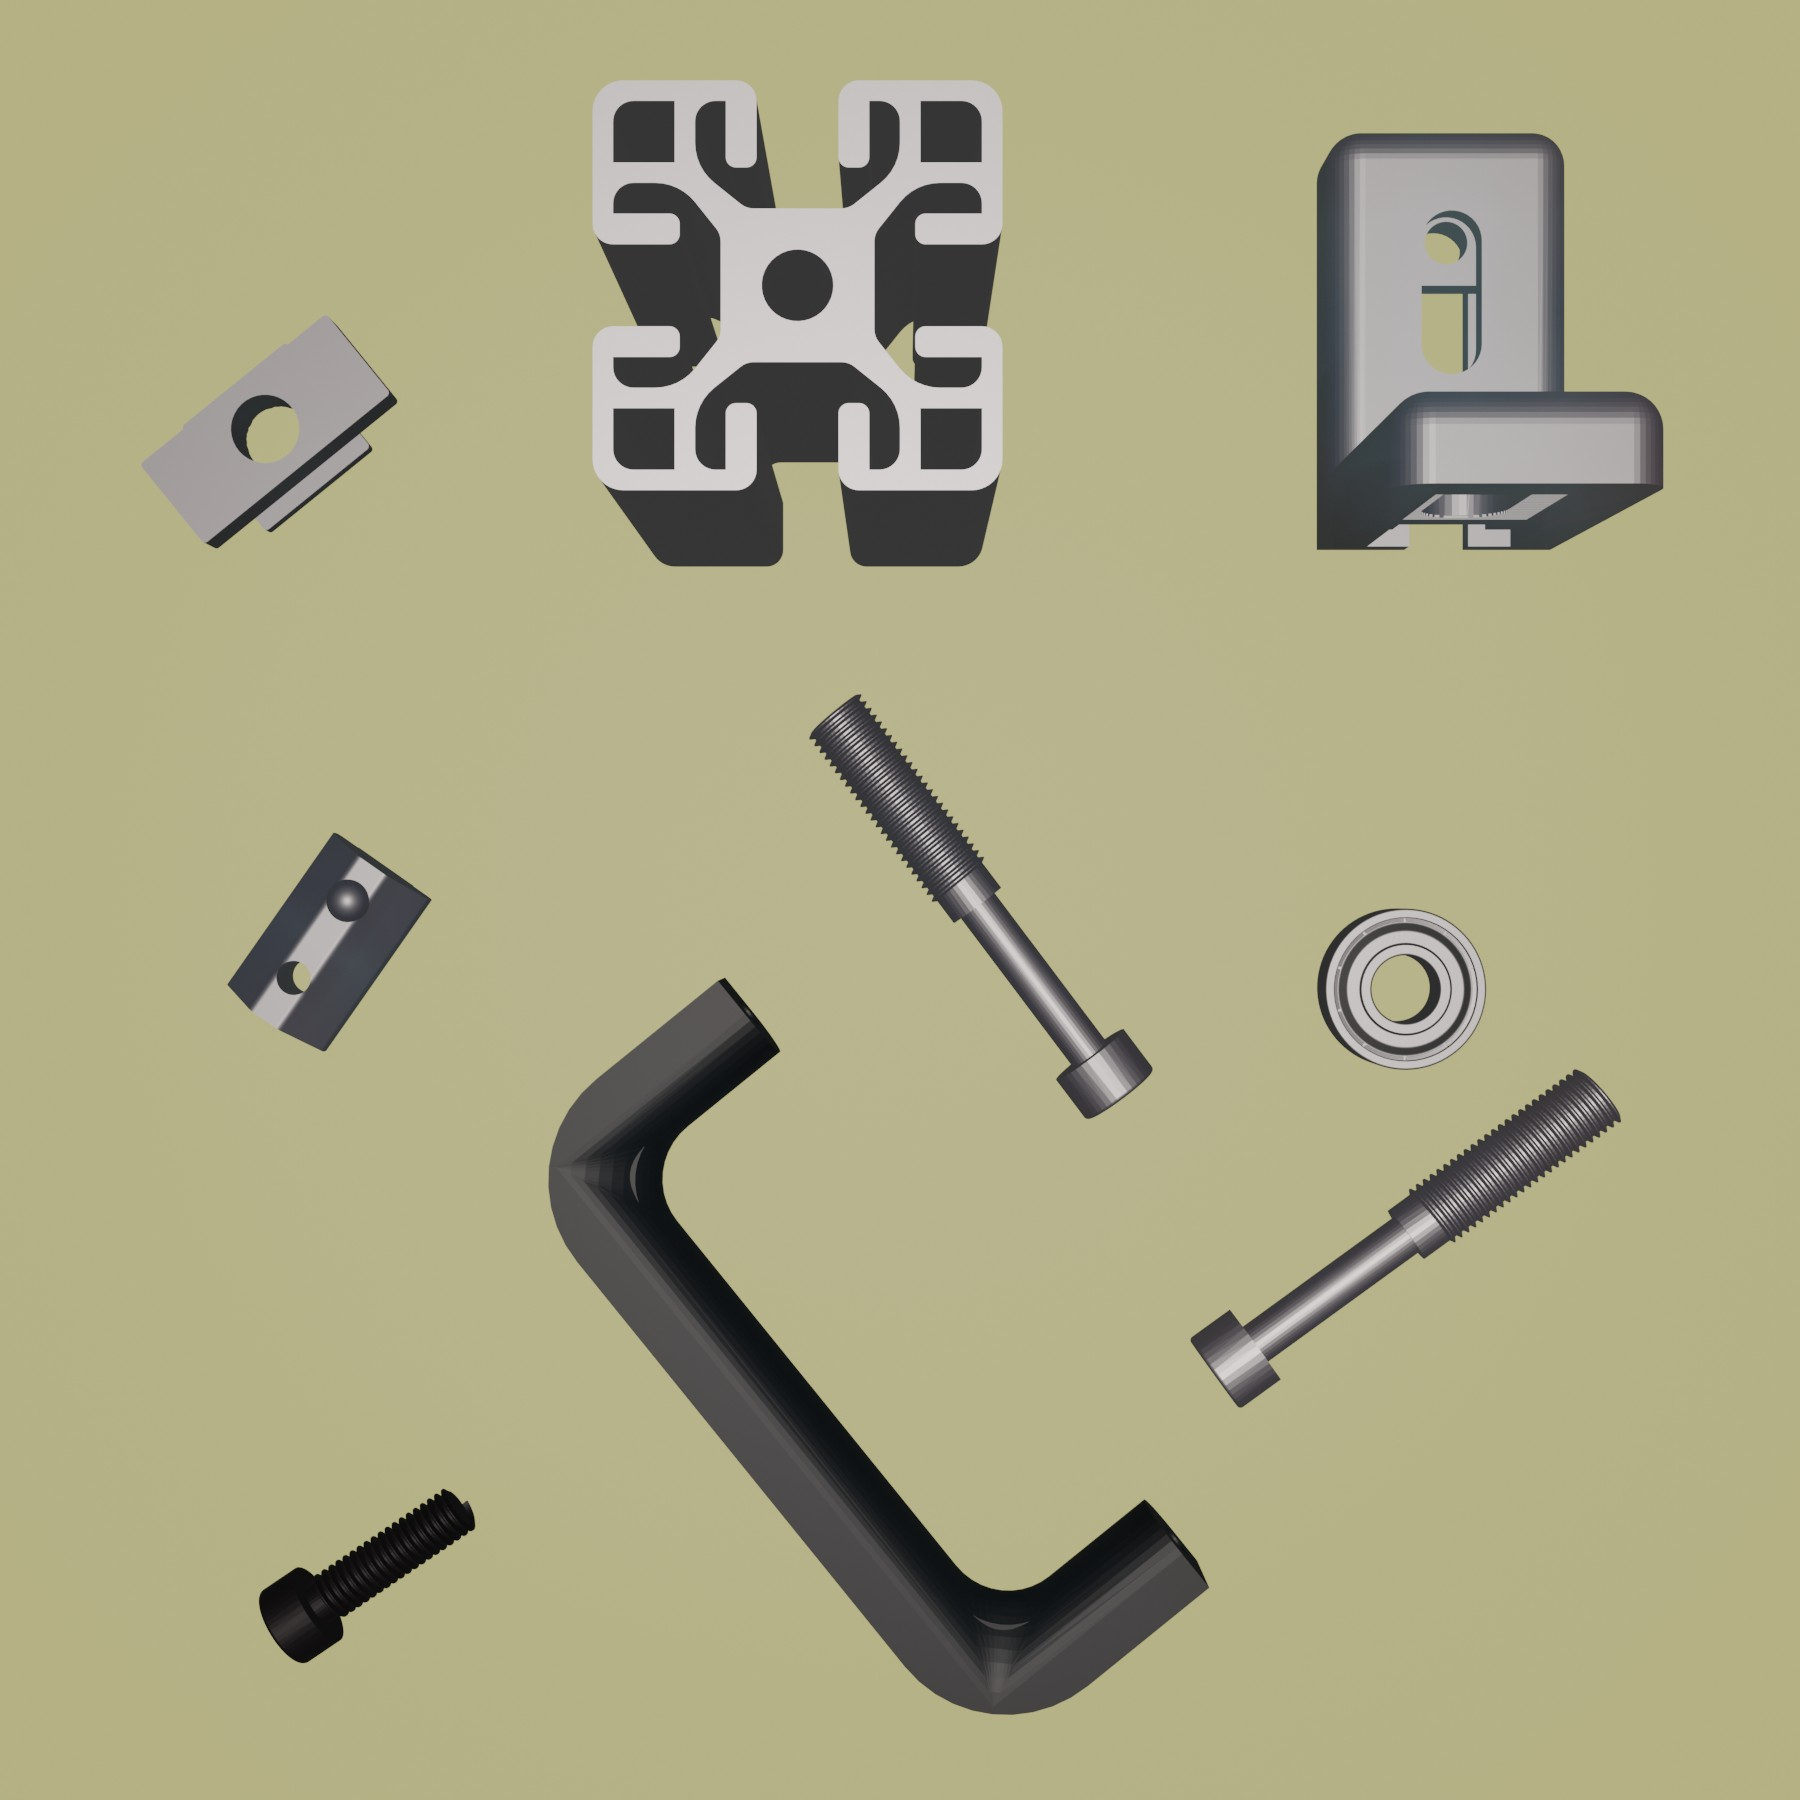Aluminium Extension: (585, 76, 1009, 572)
Ball Bearing: (1315, 902, 1488, 1071)
Multiwinkel: (1310, 127, 1670, 554)
Pull Handle: (547, 974, 1212, 1719)
Shoulder Socket Head Cap Screw: (804, 689, 1154, 1123), (1188, 1068, 1624, 1411)
Socket Head Cap Screw: (259, 1480, 480, 1666)
T Nut Square: (137, 308, 402, 551)
T Spring Nut: (227, 826, 430, 1053)
